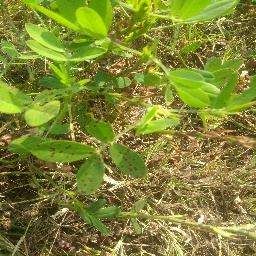GroundNut_Leaf: (168, 69, 218, 106), (111, 144, 150, 178), (28, 142, 97, 160), (76, 107, 110, 140), (77, 159, 105, 197), (74, 7, 107, 38), (25, 99, 59, 127)
